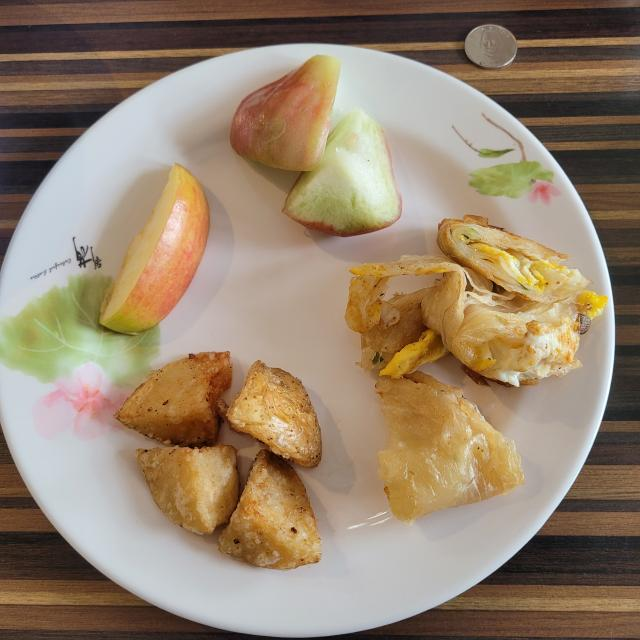apple -sliced-: (99, 164, 210, 334)
coin: (464, 24, 518, 69)
fried potato: (115, 351, 321, 570)
